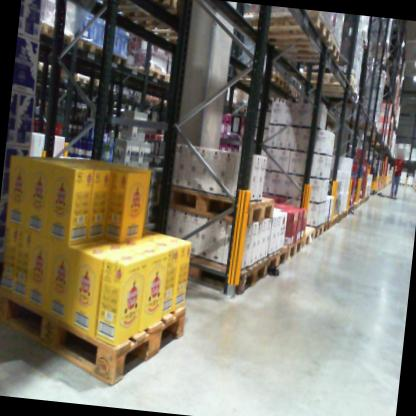pallet: (0, 270, 199, 384), (151, 166, 278, 228), (171, 242, 270, 300), (244, 6, 332, 52), (271, 32, 345, 70), (77, 0, 173, 19), (302, 66, 359, 97), (226, 65, 286, 92), (34, 20, 75, 49), (71, 29, 108, 60), (131, 59, 167, 84), (288, 221, 315, 252), (262, 242, 287, 272), (278, 233, 303, 263), (64, 69, 95, 88), (102, 49, 129, 68), (34, 63, 59, 80), (309, 220, 324, 241), (320, 218, 332, 233), (329, 213, 339, 229)
pallet_truck: (355, 140, 384, 200)
